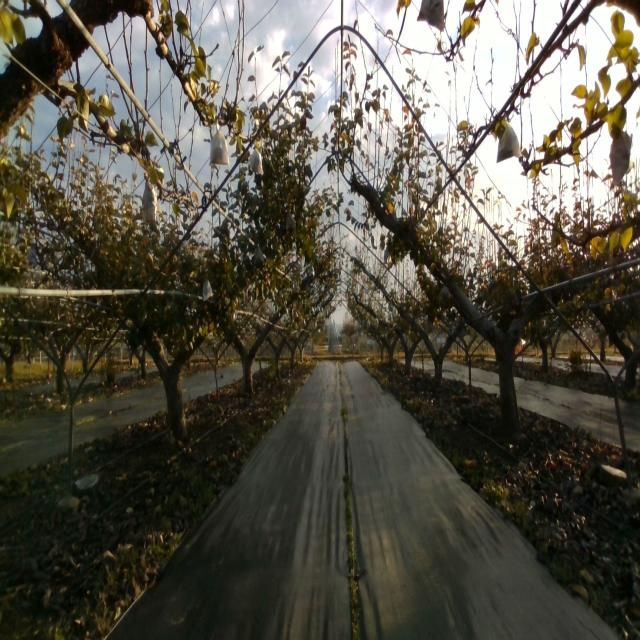pearbags: (609, 130, 633, 186), (496, 120, 521, 163), (417, 0, 444, 32), (209, 123, 228, 166), (142, 170, 156, 224), (249, 142, 264, 176), (438, 282, 453, 306), (202, 275, 214, 303), (286, 210, 297, 236), (254, 244, 264, 269)
